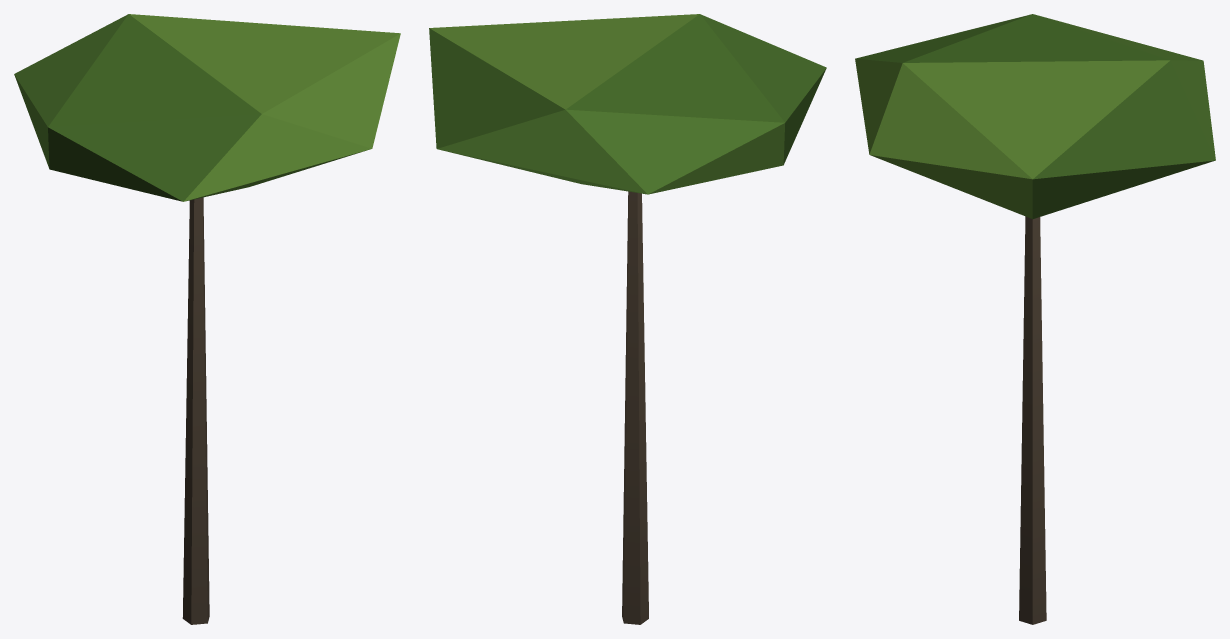
File: fr_tree_b_lod1.glb
3 renders of one model, left to right at view 1: azimuth 30°, elevation 25°; view 2: azimuth 150°, elevation 25°; view 3: azimuth 270°, elevation 25°, orthographic.
Visible parts, largest first — view 1: fr_tree_b_lod1; view 2: fr_tree_b_lod1; view 3: fr_tree_b_lod1.
Part boxes in pixels (x1,y1,x2,y2): fr_tree_b_lod1: [14, 14, 400, 624]; fr_tree_b_lod1: [429, 14, 826, 624]; fr_tree_b_lod1: [855, 14, 1215, 624].
Size of the model in its own units: 9.03 by 13.58 by 7.95.
